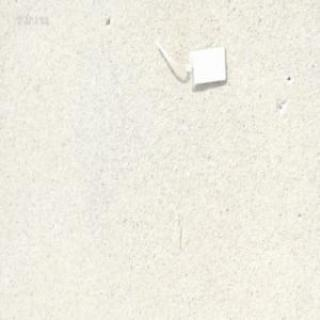LuggageTagtrack_idkeyframe: (151, 40, 229, 89)
